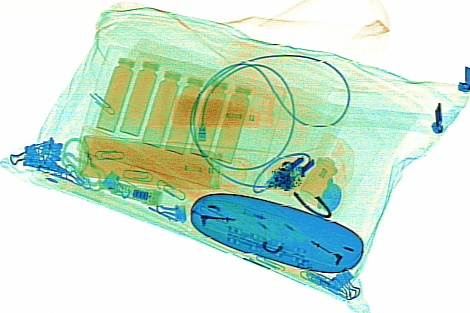pressure: (75, 130, 245, 191)
